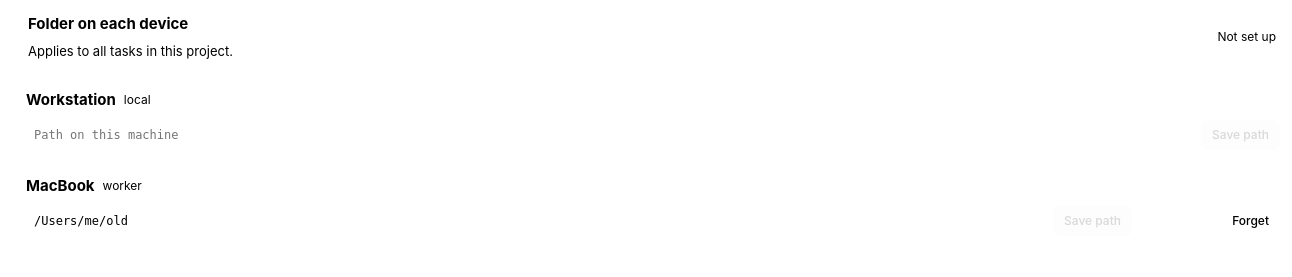
Test: ProjectWorkspaceHosts › shows a failed remote Save path and allows retry
Replace the text in the field named "Path on this machine · MacBook" with "/Users/me/new" at (536, 221), box [26,208,1045,234]
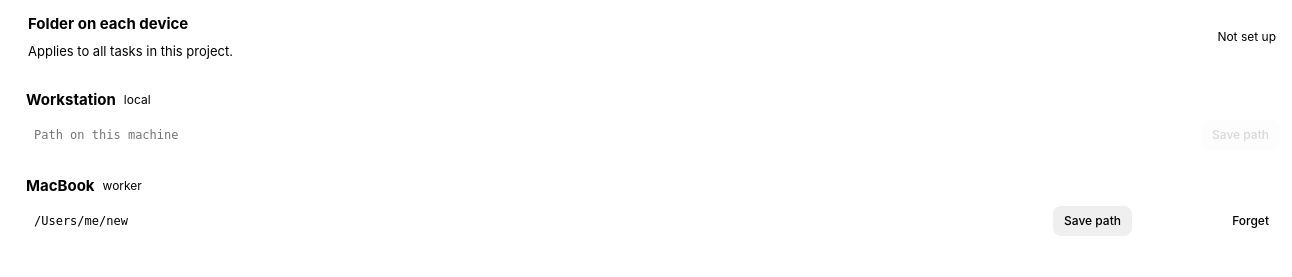
Click the 2nd button "Save path" at (1092, 221), box [1053,206,1132,236]
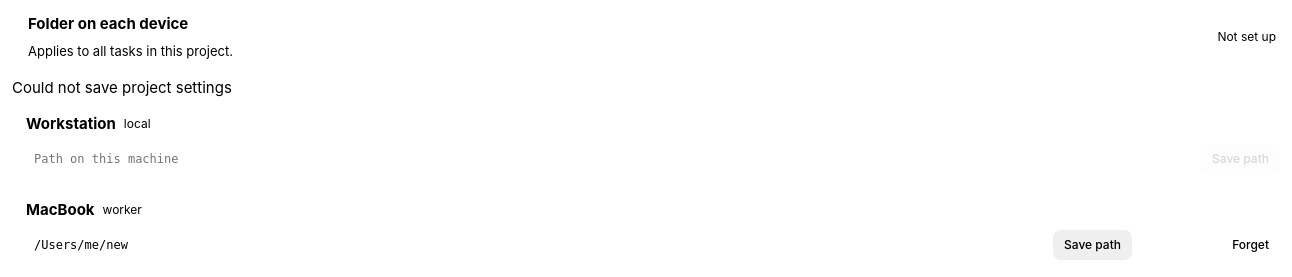
Check: the 2nd button "Save path" is enabled
Check: the message reads "Could not save project settings", box [12,78,232,97]
Click the 2nd button "Save path" at (1092, 245), box [1053,230,1132,260]
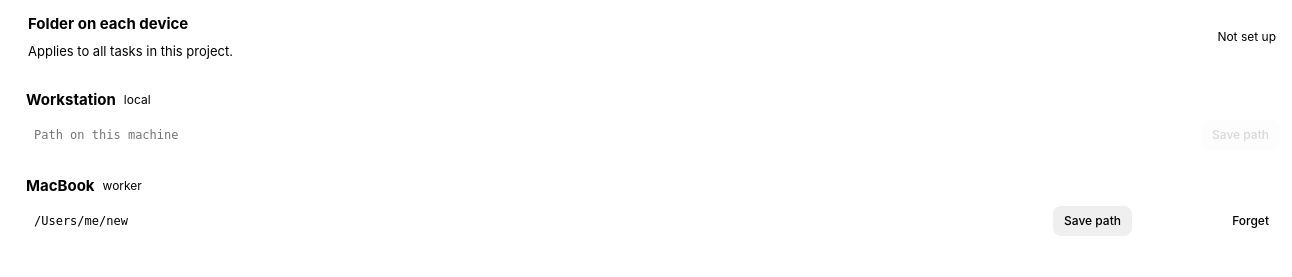
Check: the message "Could not save project settings" is gone
